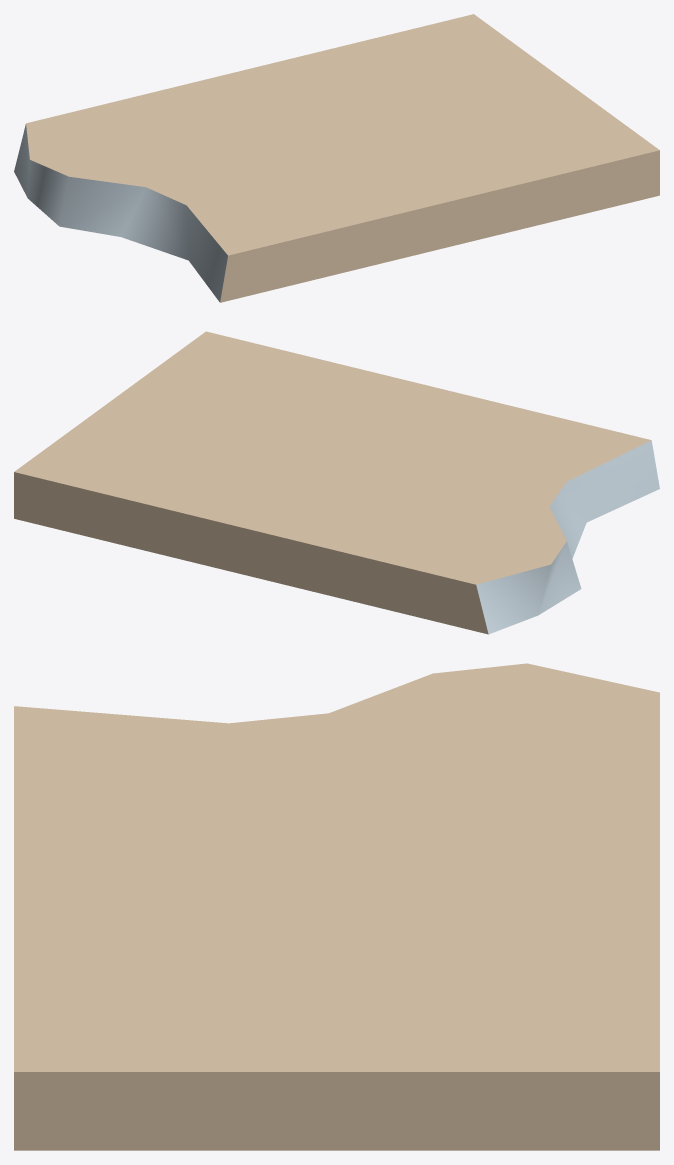
3 renders of one model, top to bottom at view 1: azimuth 30°, elevation 25°; view 2: azimuth 150°, elevation 25°; view 3: azimuth 270°, elevation 25°, orthographic. The views are drawn at different scales.
Parts seen in each view (by area): view 1: Object18; view 2: Object18; view 3: Object18.
Part boxes in pixels (x1,y1,x2,y2): Object18: (14, 14, 659, 302); Object18: (14, 331, 659, 634); Object18: (14, 663, 659, 1150).
Bounding box in the file's own units: 542 × 48.69 × 362.
